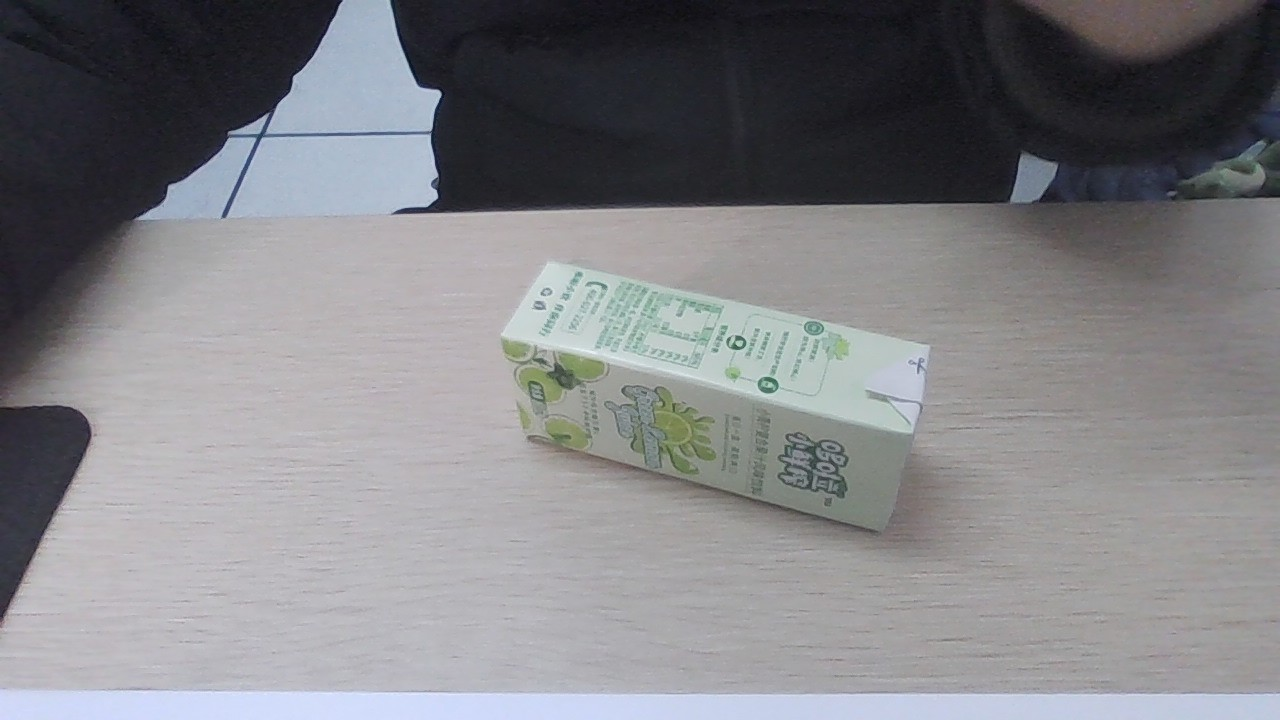CY-drink: (500, 262, 924, 537)
